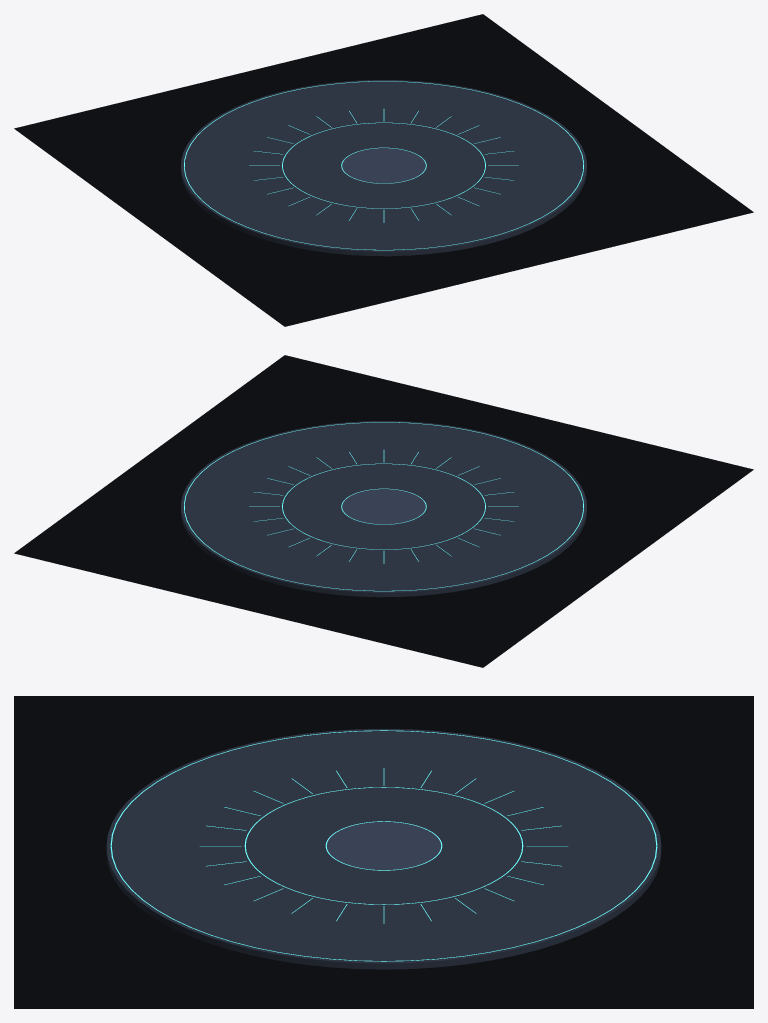
3 views of the same model, one above another, from view 1: azimuth 30°, elevation 25°; view 2: azimuth 150°, elevation 25°; view 3: azimuth 270°, elevation 25° (orthographic). The views are drawn at different scales.
Visible parts, largest first — view 1: nexo_floor.lod1; view 2: nexo_floor.lod1; view 3: nexo_floor.lod1.
Part boxes in pixels (x1,y1,x2,y2): nexo_floor.lod1: (14,14,753,326); nexo_floor.lod1: (14,355,753,667); nexo_floor.lod1: (14,696,753,1008).
Size of the model in its own units: 64 by 0.6328 by 64.
